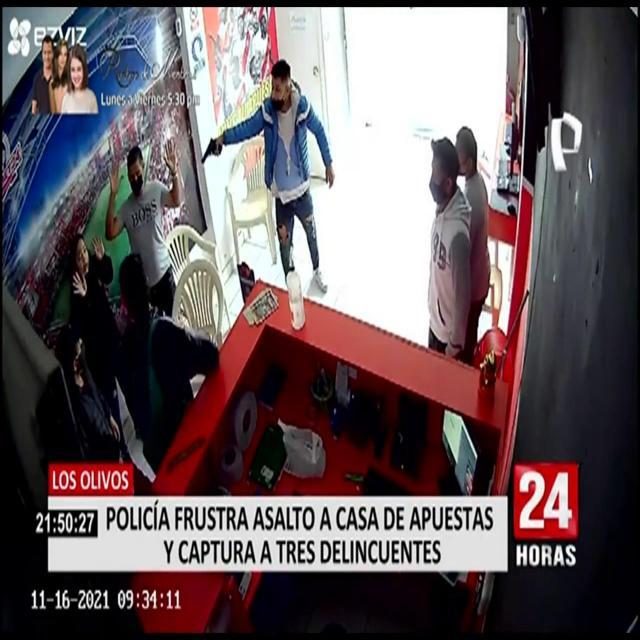weapon: (198, 122, 226, 172)
